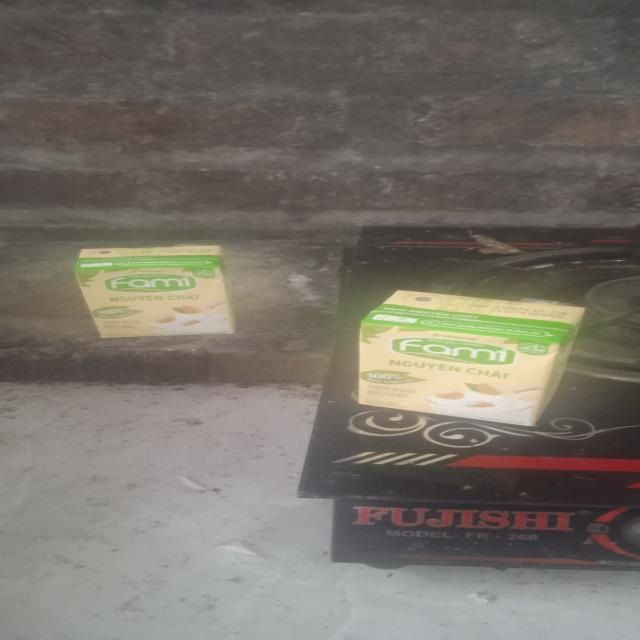Fami: (350, 289, 590, 429), (71, 244, 242, 342)
